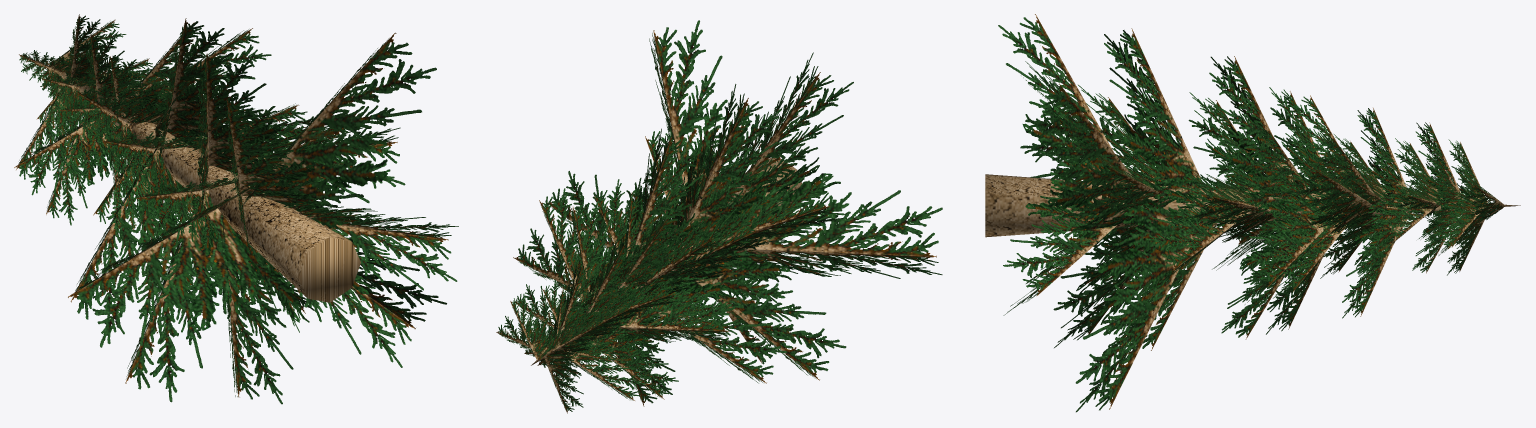
The model's file is Tree1.fbx.
3 renders of one model, left to right at view 1: azimuth 30°, elevation 25°; view 2: azimuth 150°, elevation 25°; view 3: azimuth 270°, elevation 25°, orthographic. The views are drawn at different scales.
Visible parts, largest first — view 1: BranchesUnderside; view 2: BranchesUnderside; view 3: BranchesUnderside.
Part boxes in pixels (left/top/right/bottom): BranchesUnderside: left=14, top=14, right=458, bottom=404; BranchesUnderside: left=496, top=20, right=942, bottom=413; BranchesUnderside: left=985, top=14, right=1520, bottom=412.
Bounding box in the file's own units: 4.46 × 3.95 × 5.71.
